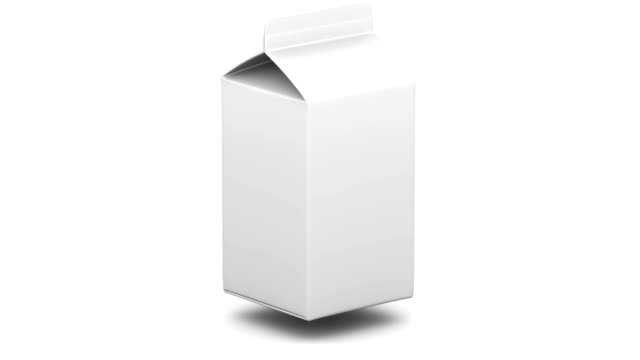carton: (206, 1, 440, 345)
